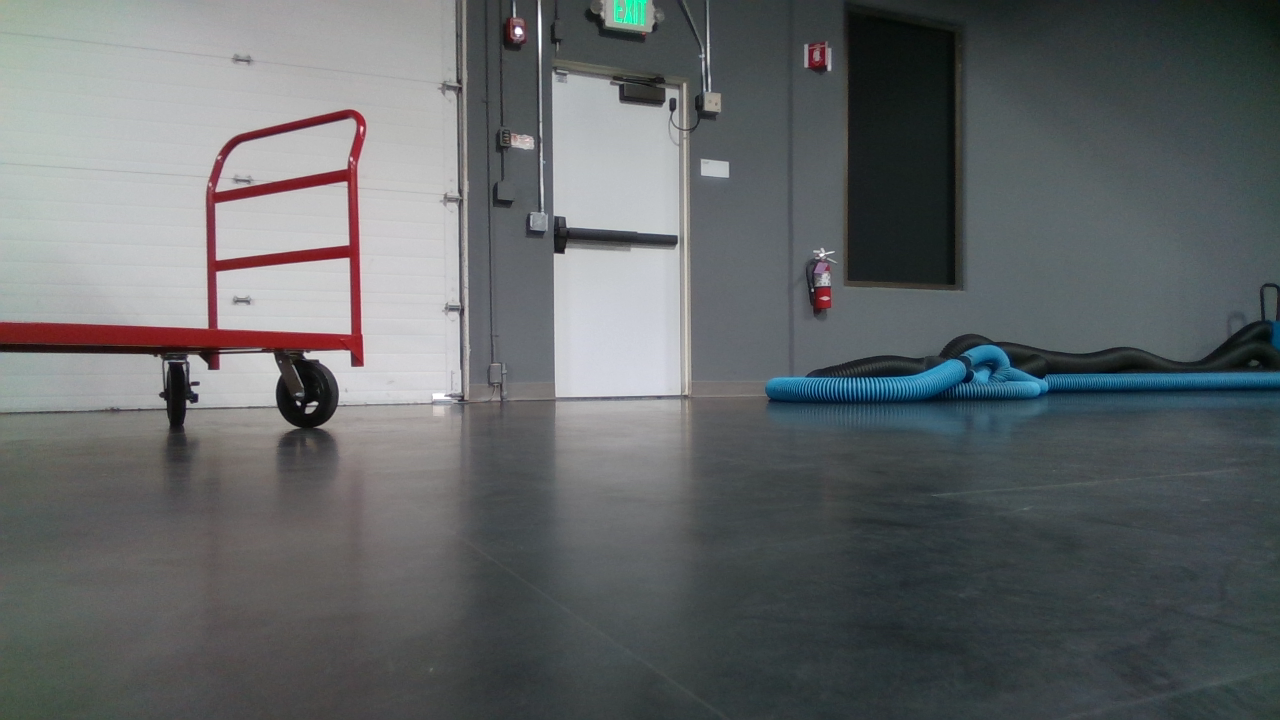Dolly: (0, 107, 372, 433)
Wheel: (270, 354, 348, 432), (148, 357, 208, 432)
